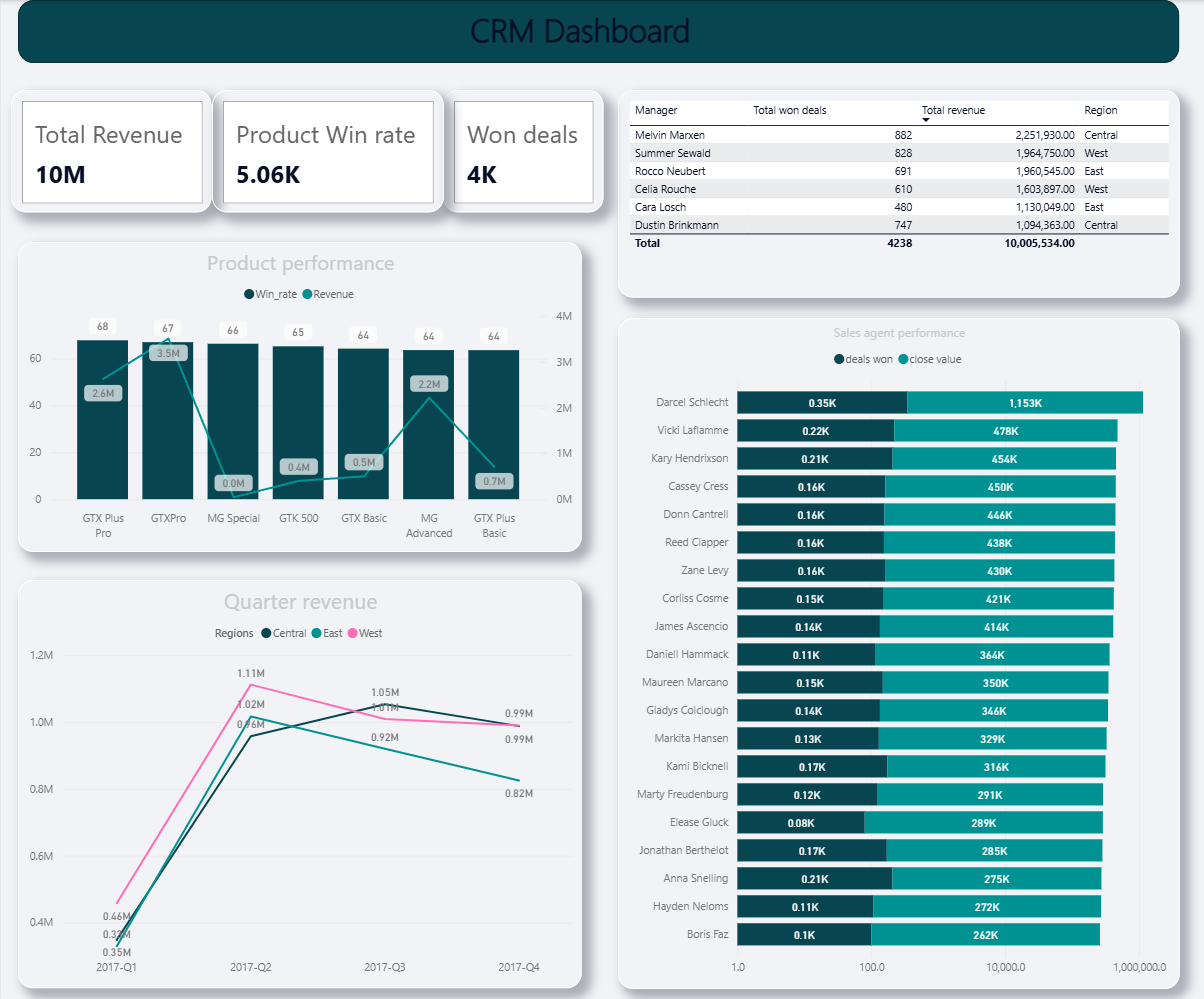

Layout of this report page (visuals, bound fields, positions):
{"tool":"powerbi","page":{"name":"Page 1","canvas":[1200,1000],"ordinal":0},"visuals":[{"type":"tableEx","fields":{"Values":["project_crm team_sales_performance.manager","Sum(project_crm team_sales_performance.total_deals_won)","Sum(project_crm team_sales_performance.total_revenue)","project_crm team_sales_performance.regional_office"]},"box":[614.9,89.3,559.5,206.6],"z":0},{"type":"barChart","title":"Sales agent performance","fields":{"Y":["Sum(project_crm sales_team_performance.deals_won)","Sum(project_crm sales_team_performance.close_value)"],"Category":["project_crm sales_team_performance.sales_agent"]},"box":[614.9,317.4,559.5,668.6],"z":1000},{"type":"lineChart","title":"Quarter revenue","fields":{"Category":["project_crm quater_to_quater_trends.quater_year"],"Y":["Sum(project_crm quater_to_quater_trends.revenue_generated)"],"Series":["project_crm quater_to_quater_trends.regional_office"]},"box":[16.5,578.5,562,407.4],"z":2000},{"type":"lineStackedColumnComboChart","title":"Product performance","fields":{"Category":["project_crm product_performace.product"],"Y2":["Sum(project_crm product_performace.Revenue)"],"Y":["Max(project_crm product_performace.Win_rate)"]},"box":[16.5,241.3,562,309.1],"z":3000},{"type":"cardVisual","fields":{"Data":["Sum(project_crm quater_to_quater_trends.revenue_generated)"]},"box":[9.9,89.3,200,122.3],"z":4000},{"type":"cardVisual","fields":{"Data":["Sum(project_crm quater_to_quater_trends.Deals_won)"]},"box":[440.5,89.3,159.5,122.3],"z":5000},{"type":"cardVisual","fields":{"Data":["Sum(project_crm quater_to_quater_trends.win_rate)"]},"box":[209.9,89.3,230.6,122.3],"z":6000},{"type":"shape","box":[16.5,0,1157.9,62.8],"z":7000},{"type":"textbox","box":[428.1,2.5,300,57],"z":8000}]}

Visuals, with their boxes in screenshot pixels (x1, y1, x2, y2), scaled from the page's 1200x1000 canvas onto the 1204x999 screenshot:
tableEx - project_crm team_sales_performance.manager x Sum(project_crm team_sales_performance.total_deals_won): [left=617, top=89, right=1178, bottom=296]
"Sales agent performance" barChart: [left=617, top=317, right=1178, bottom=985]
"Quarter revenue" lineChart: [left=17, top=578, right=580, bottom=985]
"Product performance" lineStackedColumnComboChart: [left=17, top=241, right=580, bottom=550]
cardVisual - Sum(project_crm quater_to_quater_trends.revenue_generated): [left=10, top=89, right=211, bottom=211]
cardVisual - Sum(project_crm quater_to_quater_trends.Deals_won): [left=442, top=89, right=602, bottom=211]
cardVisual - Sum(project_crm quater_to_quater_trends.win_rate): [left=211, top=89, right=442, bottom=211]
shape: [left=17, top=0, right=1178, bottom=63]
textbox: [left=430, top=2, right=731, bottom=59]
